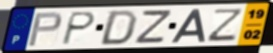A: (169, 8, 207, 44)
D: (97, 9, 140, 46)
P: (59, 11, 98, 47), (26, 11, 63, 48)
Z: (132, 9, 175, 45), (205, 7, 246, 43)
